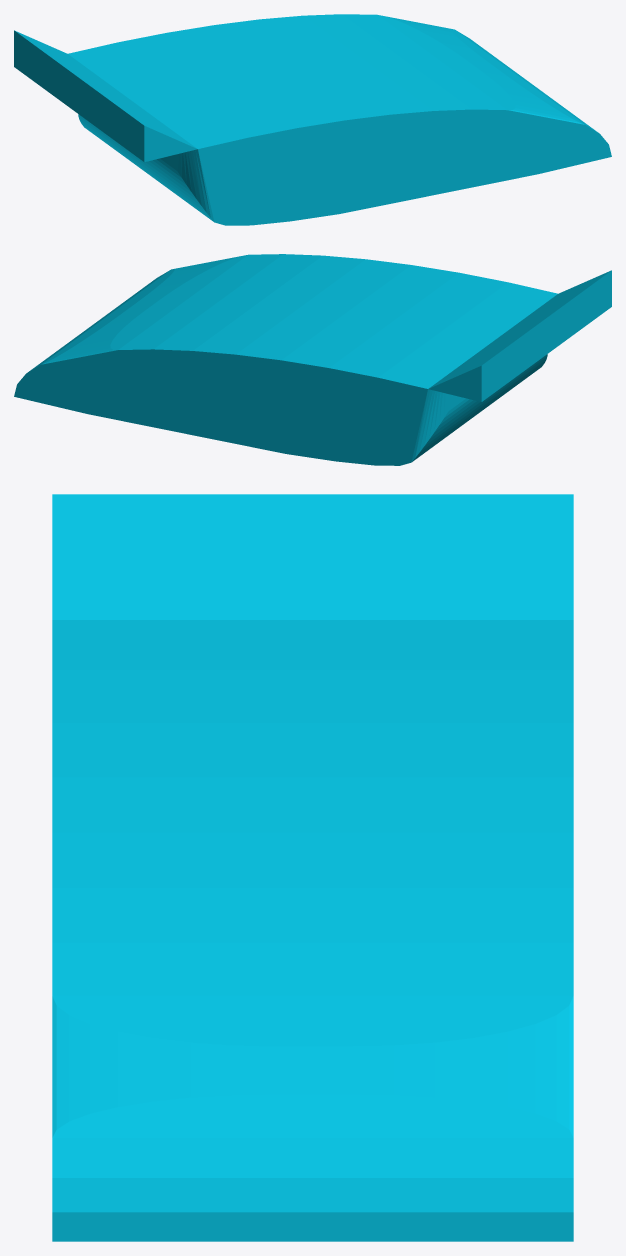
Rendered from 小飞车.fbx.
3 views of the same model, one above another, from view 1: azimuth 30°, elevation 25°; view 2: azimuth 150°, elevation 25°; view 3: azimuth 270°, elevation 25° (orthographic). The views are drawn at different scales.
Visible parts, largest first — view 1: 立方体; view 2: 立方体; view 3: 立方体.
Part boxes in pixels (x1,y1,x2,y2): 立方体: (14,14,611,225); 立方体: (14,254,611,465); 立方体: (52,494,573,1241).
Size of the model in its own units: 514 by 153 by 248.
